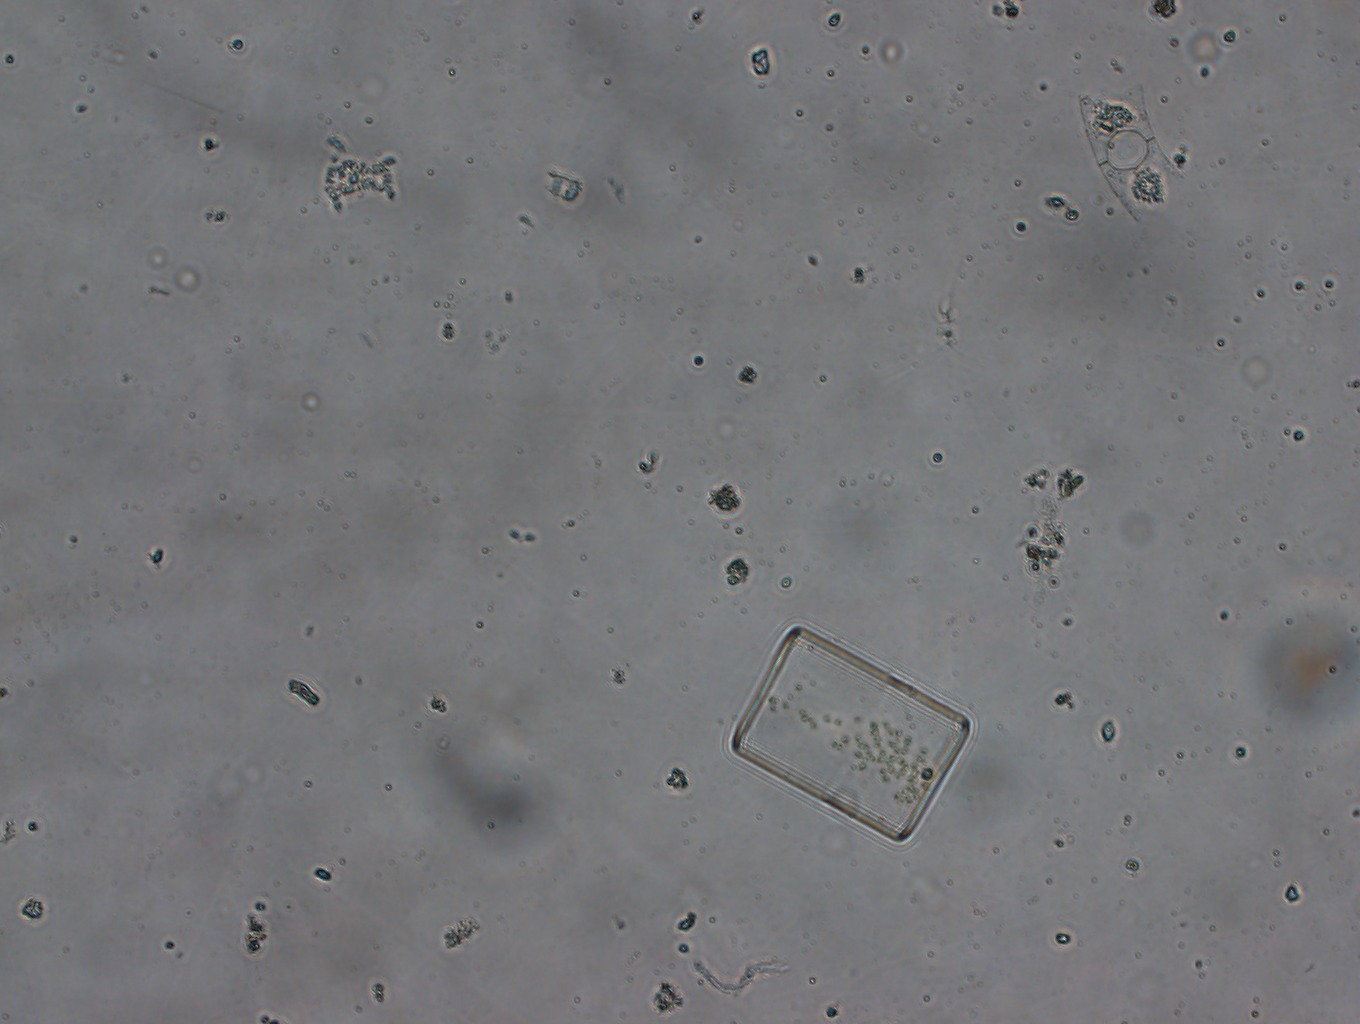guinardia flaccida: (722, 623, 986, 861)
